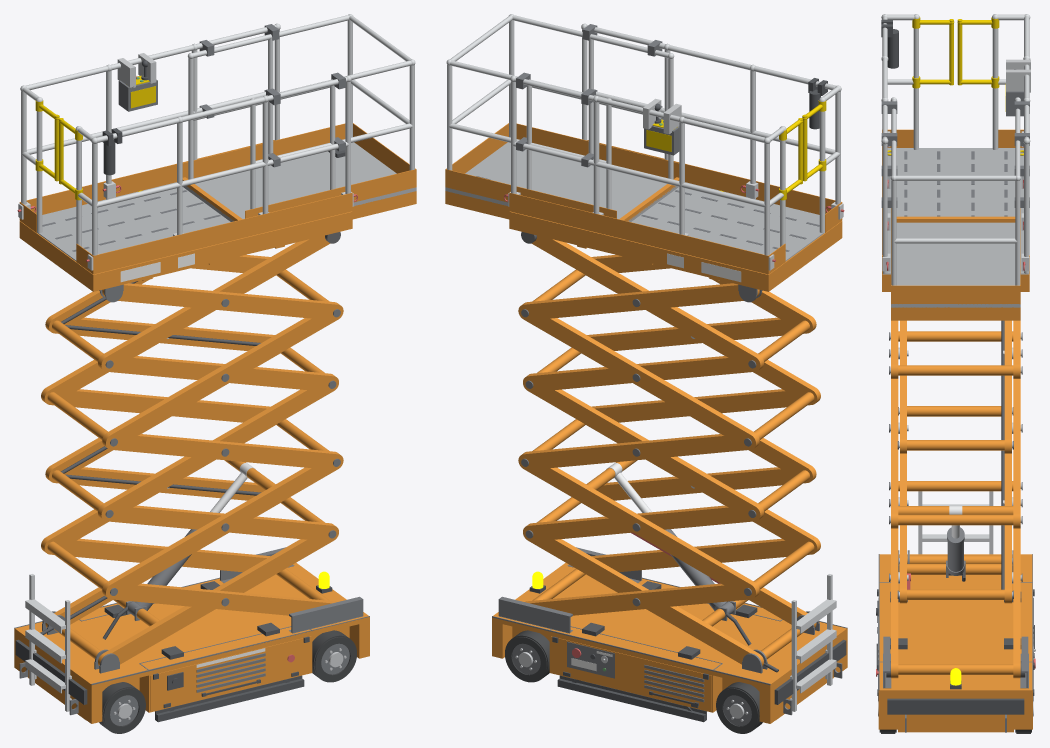
The model's file is Electric_Scissor_Lift_26ft.glb.
3 views of the same model, side by side, from view 1: azimuth 30°, elevation 25°; view 2: azimuth 150°, elevation 25°; view 3: azimuth 270°, elevation 25° (orthographic).
Parts seen in each view (by area): view 1: scissor_arms, guardrails, chassis_deck, toeboards, deck, extension_rails, extension_deck, cross_tubes, platform_frame, extension_toeboards, side_trays, ladder (+20 smaller); view 2: scissor_arms, guardrails, chassis_deck, toeboards, deck, extension_rails, extension_deck, cross_tubes, platform_frame, extension_toeboards, side_trays, ladder (+19 smaller); view 3: chassis_deck, cross_tubes, scissor_arms, deck, extension_deck, guardrails, extension_rails, chassis_ends, extension_nose, extension_toeboards, bumpers, cylinder_tubes (+18 smaller).
Boxes of the visible parts, <box> form: scissor_arms: <box>41,235,343,665</box>; guardrails: <box>20,23,351,255</box>; chassis_deck: <box>14,562,369,688</box>; toeboards: <box>19,140,352,274</box>; deck: <box>38,182,230,261</box>; extension_rails: <box>187,14,415,209</box>; extension_deck: <box>183,142,416,221</box>; cross_tubes: <box>47,269,329,658</box>; platform_frame: <box>19,211,352,291</box>; extension_toeboards: <box>182,123,416,218</box>; side_trays: <box>139,635,312,712</box>; ladder: <box>25,574,71,711</box>; scissor_arms: <box>518,235,820,665</box>; guardrails: <box>510,23,841,255</box>; chassis_deck: <box>492,562,847,689</box>; toeboards: <box>509,140,842,274</box>; deck: <box>631,182,823,261</box>; extension_rails: <box>446,14,674,209</box>; extension_deck: <box>445,142,678,221</box>; cross_tubes: <box>532,269,814,658</box>; platform_frame: <box>509,211,842,291</box>; extension_toeboards: <box>445,123,679,218</box>; side_trays: <box>549,635,722,712</box>; ladder: <box>790,574,836,711</box>; chassis_deck: <box>878,554,1032,694</box>; cross_tubes: <box>898,331,1013,674</box>; scissor_arms: <box>891,320,1020,678</box>; deck: <box>883,148,1028,274</box>; extension_deck: <box>891,222,1020,307</box>; guardrails: <box>881,14,1030,273</box>; extension_rails: <box>890,97,1020,285</box>; chassis_ends: <box>878,694,1032,729</box>; extension_nose: <box>891,216,1020,320</box>; extension_toeboards: <box>891,208,1020,304</box>; bumpers: <box>887,698,1024,714</box>; cylinder_tubes: <box>898,506,1013,574</box>.
Bounding box in the file's own units: 2.99 × 5.04 × 1.21.
